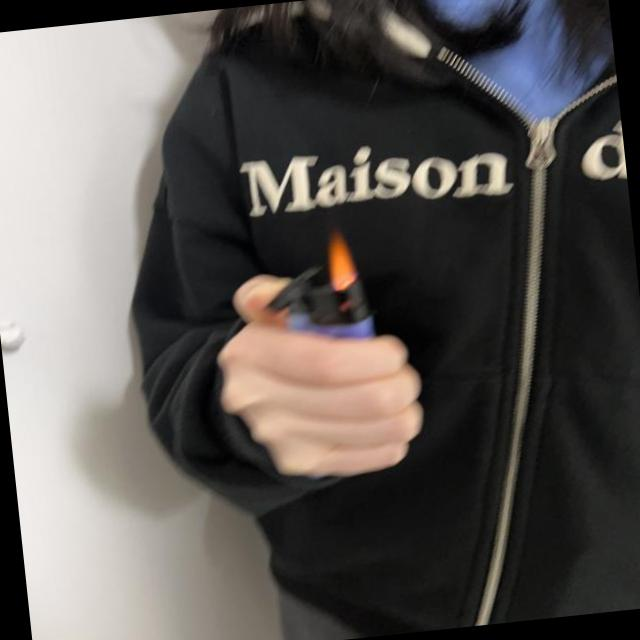Fire: (324, 227, 359, 291)
